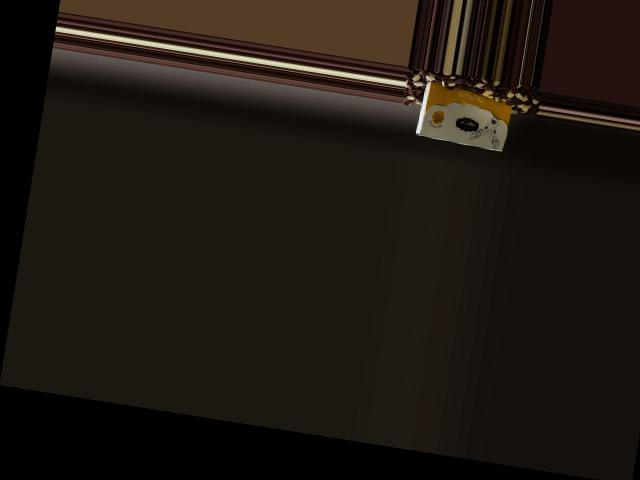chocolate: (410, 76, 520, 156)
